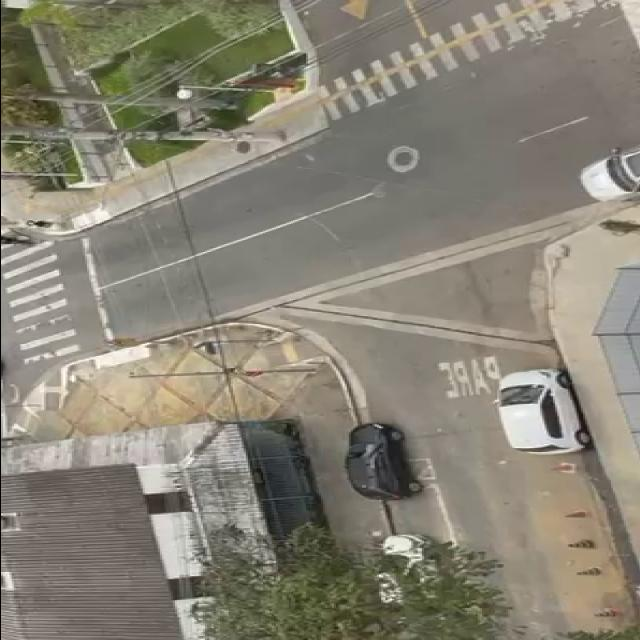car: (492, 368, 602, 454), (342, 416, 419, 506), (568, 136, 640, 204)
